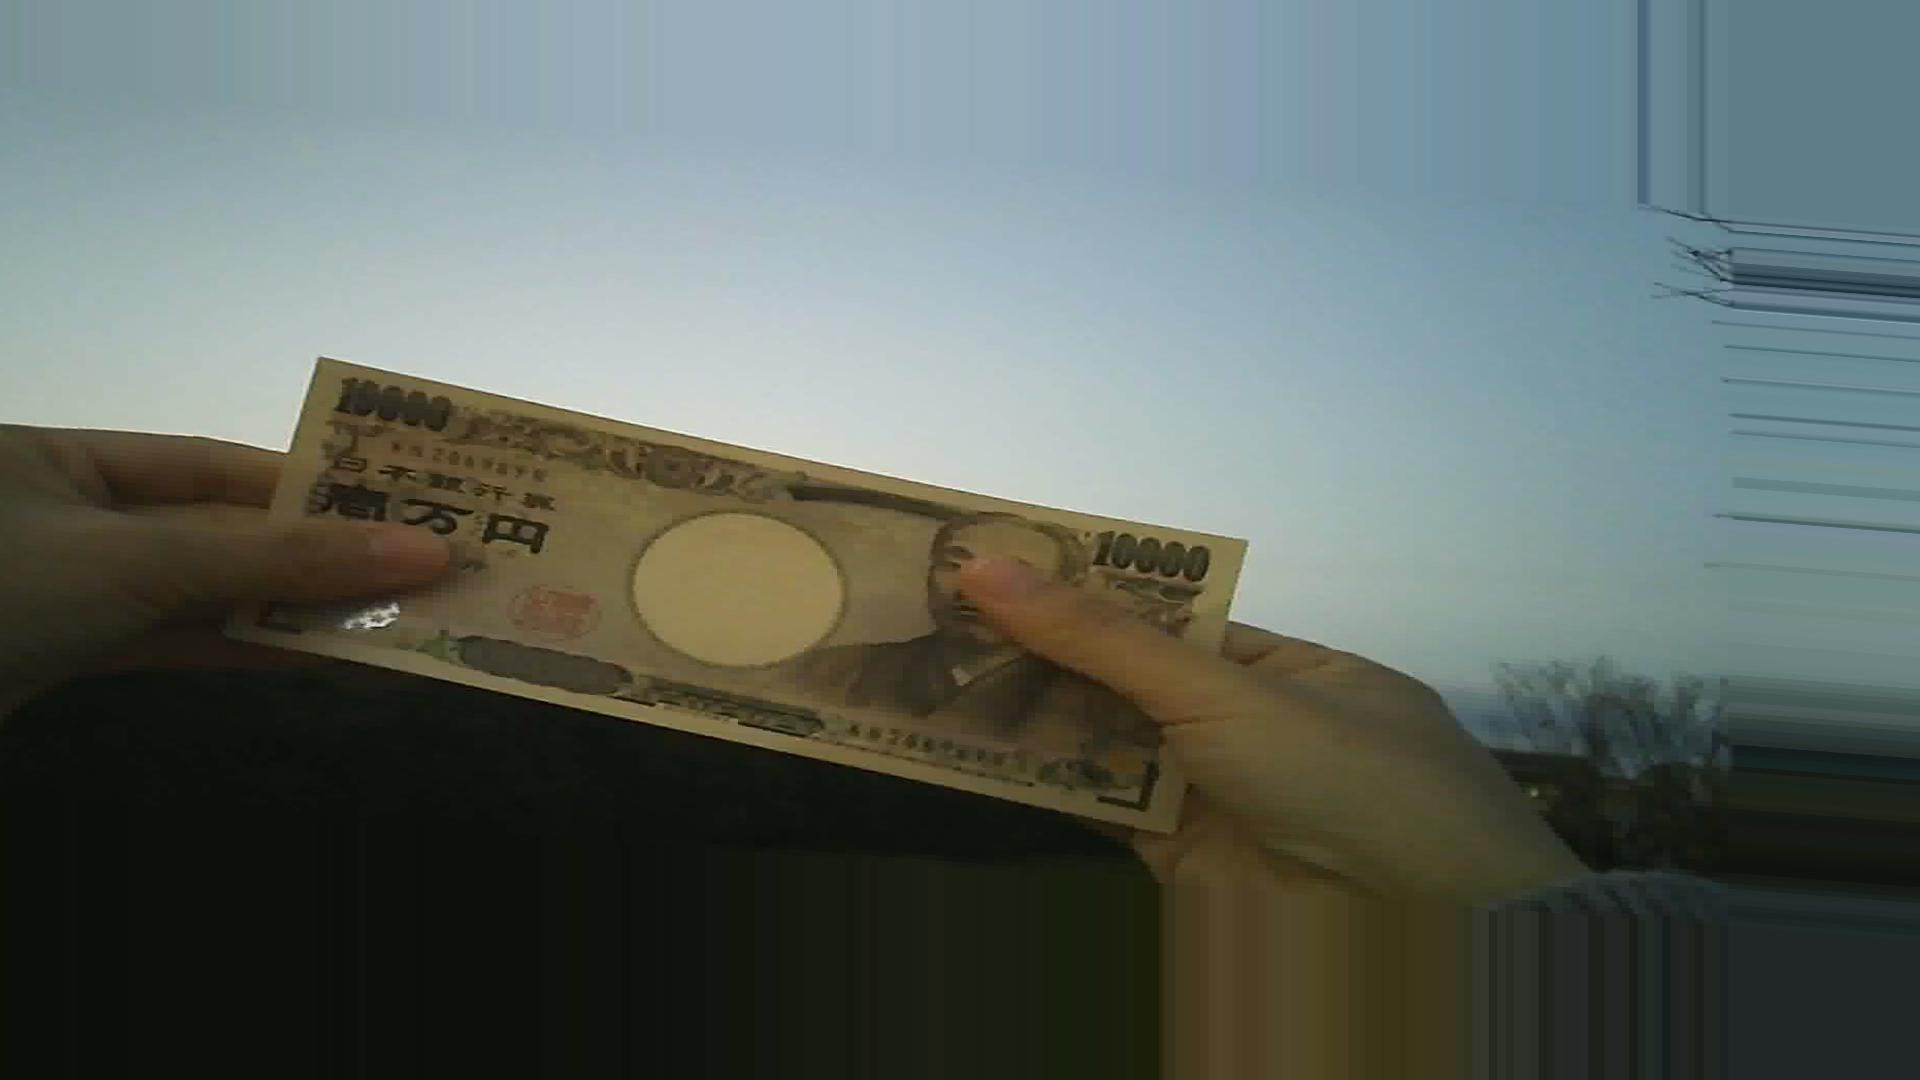10,000 Yen: (208, 334, 1385, 853)
